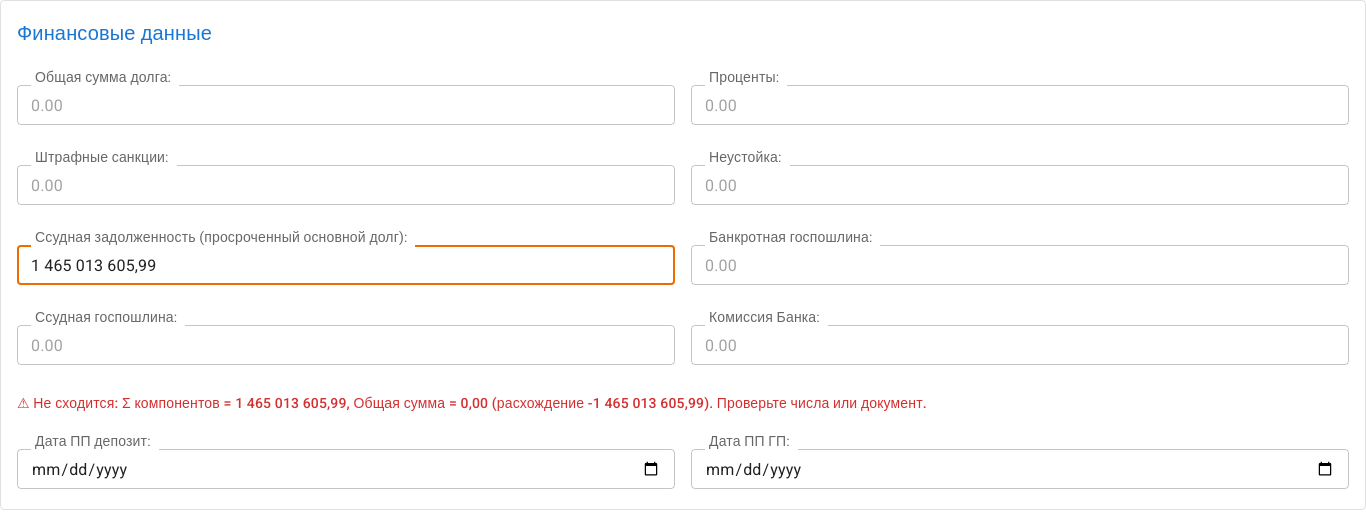
FinancesSection — подсветка подозрительных полей › подсветка НЕ ломает тултип «откуда число» на том же поле
Hover over the field showing "1 465 013 605,99".
mouse_move(346, 265)  # box top-left (17, 245), bottom-right (675, 285)
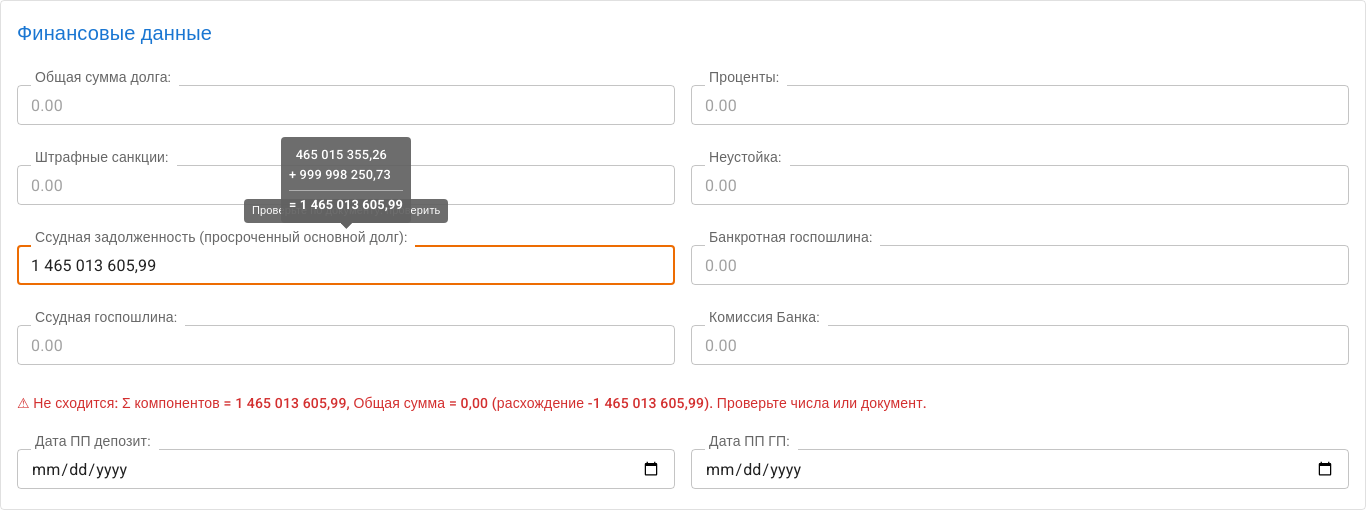
Expected: the number of elements with test id "field-quality-low" is 1, top-left (17, 237), bottom-right (675, 289)
Result: the text "465 015 355,26" is shown at top-left (296, 147), bottom-right (387, 162)
